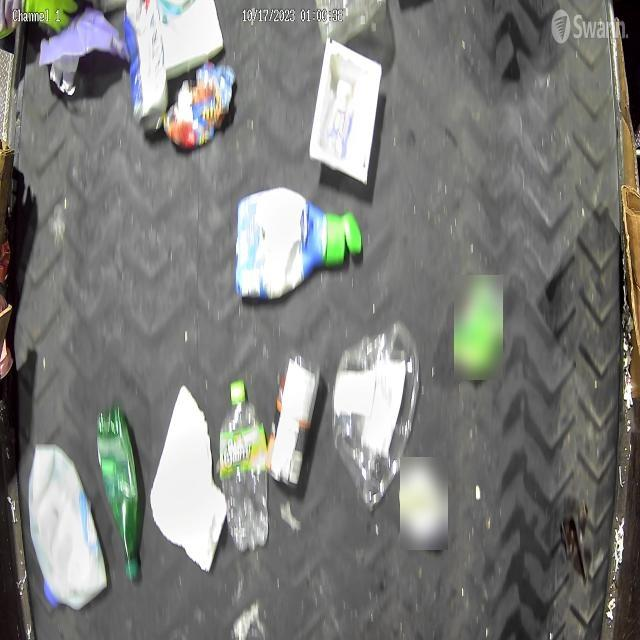milk_jug: (28, 446, 108, 612)
non_white_jug: (236, 187, 363, 300)
plastic_bottle: (220, 379, 270, 554)
